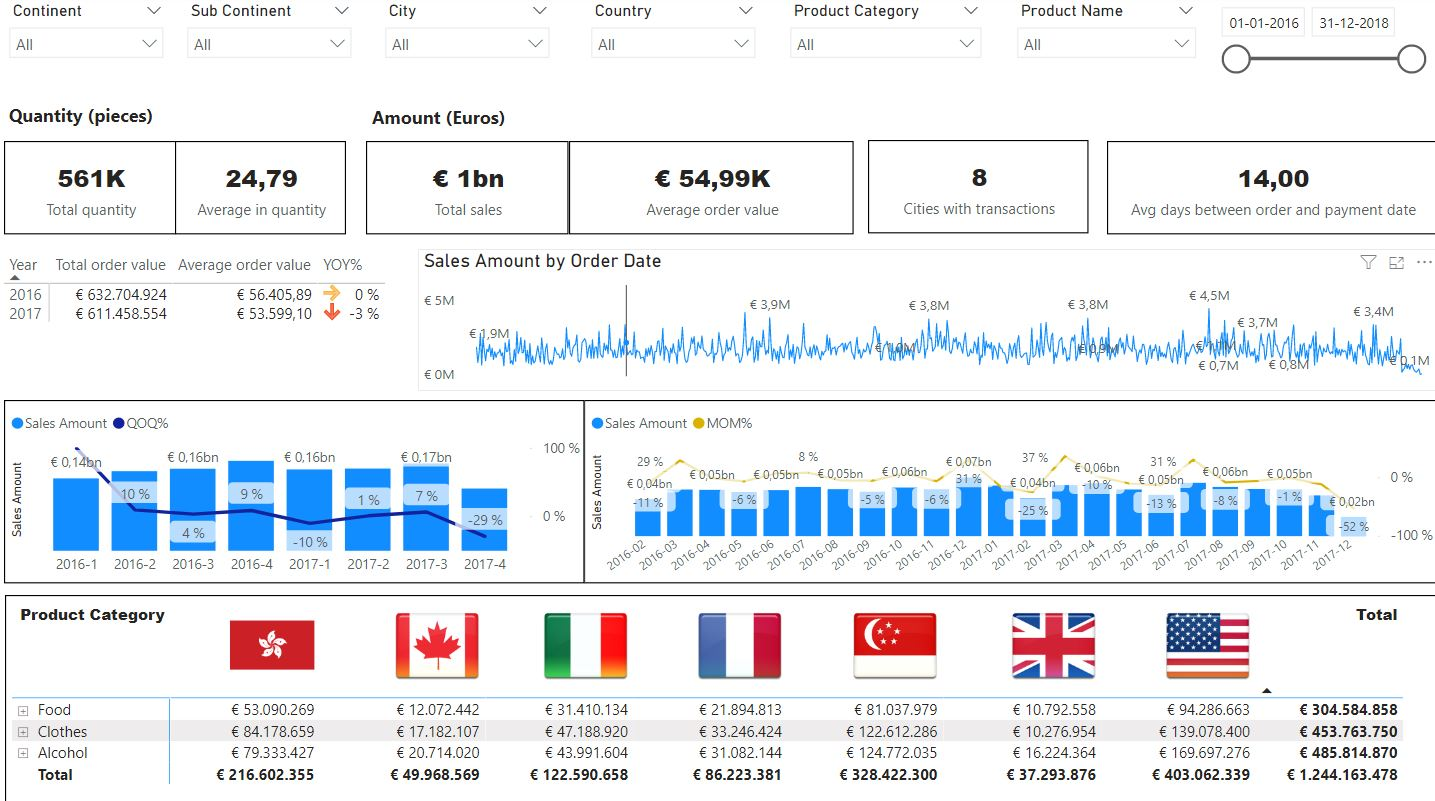

The page's visual inventory and layout, read from the dashboard file:
{"tool":"powerbi","page":{"name":"Sales Overview","canvas":[1280,720],"ordinal":0},"visuals":[{"type":"textbox","box":[327.1,91.6,306.7,41.8],"z":500},{"type":"textbox","box":[4.9,89.4,306.2,43.7],"z":1000},{"type":"card","fields":{"Values":["Avg(Sales Figuresall_location.Sales Amount)"]},"box":[507.6,128.9,253.3,82.7],"z":1500},{"type":"slicer","fields":{"Values":["Products.Product Category"]},"box":[693.9,0,189.5,68],"z":2000},{"type":"slicer","fields":{"Values":["Products.Product Name"]},"box":[896.1,0,178.8,68],"z":3000},{"type":"slicer","fields":{"Values":["Date.Date"]},"box":[1074.9,0,205.1,86.5],"z":4000},{"type":"lineChart","fields":{"Y":["Sum(Sales Figuresall_location.Sales Amount)"],"Category":["Sales Figuresall_location.Order Date"]},"box":[373.2,224.5,906.8,126.3],"z":5000},{"type":"slicer","fields":{"Values":["Geo.Continent"]},"box":[0,0,157.4,68],"z":6000},{"type":"slicer","fields":{"Values":["Geo.City"]},"box":[334.3,0,166.2,74.8],"z":7000},{"type":"slicer","fields":{"Values":["Geo.Sub Continent"]},"box":[158.2,0,166.2,74.7],"z":8000},{"type":"slicer","fields":{"Values":["Geo.Country"]},"box":[517.1,0,166.2,74.8],"z":9000},{"type":"card","fields":{"Values":["Sum(Sales Figuresall_location.Quantity)"]},"box":[5.2,128.5,153.2,83.1],"z":11000},{"type":"card","fields":{"Values":["Sum(Sales Figuresall_location.Sales Amount)"]},"box":[327.1,128.5,180.4,83.1],"z":12000},{"type":"card","fields":{"Values":["Avg(Sales Figuresall_location.Quantity)"]},"box":[157.1,128.5,151.9,83.1],"z":13000},{"type":"card","fields":{"Values":["Count(Sales Figuresall_location.LocationID)"]},"box":[773.1,127.6,196.3,83.2],"z":14000},{"type":"card","fields":{"Values":["Median(Sales Figuresall_location.Days between)"]},"box":[986.1,128.7,293.9,83.2],"z":15000},{"type":"pivotTable","fields":{"Values":["Sum(Sales Figuresall_location.Sales Amount)"],"Columns":["Geo.Flag"],"Rows":["Products.Product Category","Products.Product Name"]},"box":[5.8,532.6,1274.2,188.5],"z":16000},{"type":"pivotTable","fields":{"Values":["Sum(Sales Figuresall_location.Sales Amount)","Avg(Sales Figuresall_location.Sales Amount)","Sales Figuresall_location.YOY%"],"Rows":["Date.Year"]},"box":[0,224.5,363.5,126.3],"z":18000},{"type":"lineClusteredColumnComboChart","fields":{"Category":["Date.Year Month"],"Y":["Sum(Sales Figuresall_location.Sales Amount)"],"Y2":["Sales Figuresall_location.MOM%"]},"box":[521.3,359.4,758.7,163.1],"z":19000},{"type":"lineClusteredColumnComboChart","fields":{"Y":["Sum(Sales Figuresall_location.Sales Amount)"],"Y2":["Sales Figuresall_location.QOQ"],"Category":["Date.Year-Quarter"]},"box":[5.5,359.4,515.8,163.1],"z":20000}]}

Visuals, with their boxes in screenshot pixels (x1, y1, x2, y2), scaled from the page's 1280x720 canvas onto the 1435x801 screenshot:
textbox: <region>367, 102, 711, 148</region>
textbox: <region>5, 99, 349, 148</region>
card - Avg(Sales Figuresall_location.Sales Amount): <region>569, 143, 853, 235</region>
slicer - Products.Product Category: <region>778, 0, 990, 76</region>
slicer - Products.Product Name: <region>1005, 0, 1205, 76</region>
slicer - Date.Date: <region>1205, 0, 1434, 96</region>
lineChart - Sum(Sales Figuresall_location.Sales Amount) x Sales Figuresall_location.Order Date: <region>418, 250, 1434, 390</region>
slicer - Geo.Continent: <region>0, 0, 176, 76</region>
slicer - Geo.City: <region>375, 0, 561, 83</region>
slicer - Geo.Sub Continent: <region>177, 0, 364, 83</region>
slicer - Geo.Country: <region>580, 0, 766, 83</region>
card - Sum(Sales Figuresall_location.Quantity): <region>6, 143, 178, 235</region>
card - Sum(Sales Figuresall_location.Sales Amount): <region>367, 143, 569, 235</region>
card - Avg(Sales Figuresall_location.Quantity): <region>176, 143, 346, 235</region>
card - Count(Sales Figuresall_location.LocationID): <region>867, 142, 1087, 235</region>
card - Median(Sales Figuresall_location.Days between): <region>1106, 143, 1434, 236</region>
pivotTable - Sum(Sales Figuresall_location.Sales Amount) x Geo.Flag: <region>7, 593, 1434, 800</region>
pivotTable - Sum(Sales Figuresall_location.Sales Amount) x Avg(Sales Figuresall_location.Sales Amount): <region>0, 250, 408, 390</region>
lineClusteredColumnComboChart - Date.Year Month x Sum(Sales Figuresall_location.Sales Amount): <region>584, 400, 1434, 581</region>
lineClusteredColumnComboChart - Sum(Sales Figuresall_location.Sales Amount) x Sales Figuresall_location.QOQ: <region>6, 400, 584, 581</region>
